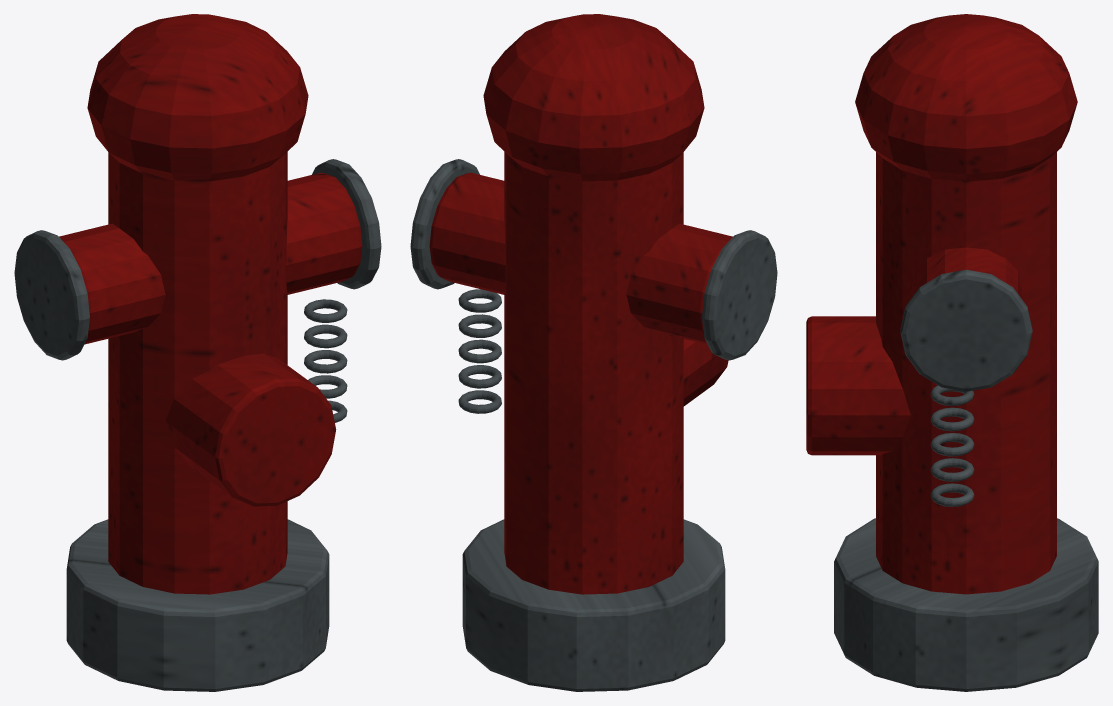
File: PROP-76BC0C7FD4B4_lod0.glb
3 views of the same model, side by side, from view 1: azimuth 30°, elevation 25°; view 2: azimuth 150°, elevation 25°; view 3: azimuth 270°, elevation 25° (orthographic).
Parts seen in each view (by area): view 1: hydrant_barrel, hydrant_cap, hydrant_base, front_nozzle, hose_nozzle, hose_cap, cap_chain; view 2: hydrant_barrel, hydrant_cap, hydrant_base, hose_nozzle, hose_cap, cap_chain, front_nozzle; view 3: hydrant_barrel, hydrant_cap, hydrant_base, hose_cap, front_nozzle, cap_chain, hose_nozzle.
Part boxes in pixels (x1=…): hydrant_barrel: x1=108, y1=152, x2=287, y2=594; hydrant_cap: x1=87, y1=14, x2=308, y2=181; hydrant_base: x1=66, y1=519, x2=329, y2=691; front_nozzle: x1=165, y1=353, x2=336, y2=506; hose_nozzle: x1=59, y1=172, x2=362, y2=344; hose_cap: x1=14, y1=159, x2=381, y2=360; cap_chain: x1=304, y1=299, x2=347, y2=422; hydrant_barrel: x1=504, y1=152, x2=683, y2=594; hydrant_cap: x1=483, y1=14, x2=704, y2=181; hydrant_base: x1=462, y1=519, x2=725, y2=691; hose_nozzle: x1=429, y1=172, x2=732, y2=344; hose_cap: x1=410, y1=159, x2=777, y2=360; cap_chain: x1=458, y1=289, x2=501, y2=413; front_nozzle: x1=683, y1=339, x2=728, y2=406; hydrant_barrel: x1=876, y1=152, x2=1056, y2=594; hydrant_cap: x1=855, y1=14, x2=1077, y2=181; hydrant_base: x1=834, y1=518, x2=1098, y2=691; hose_cap: x1=900, y1=269, x2=1032, y2=391; front_nozzle: x1=806, y1=316, x2=910, y2=455; cap_chain: x1=930, y1=385, x2=974, y2=506; hose_nozzle: x1=910, y1=247, x2=1021, y2=298.
Bounding box in the file's own units: 0.506 × 0.97 × 0.42.
2 materials, 2 textured.
